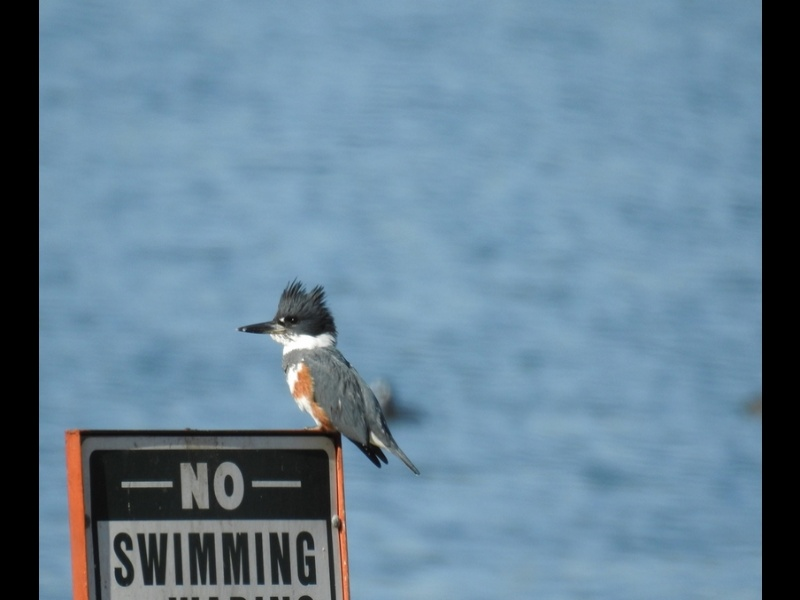kingfisher: (234, 275, 423, 478)
